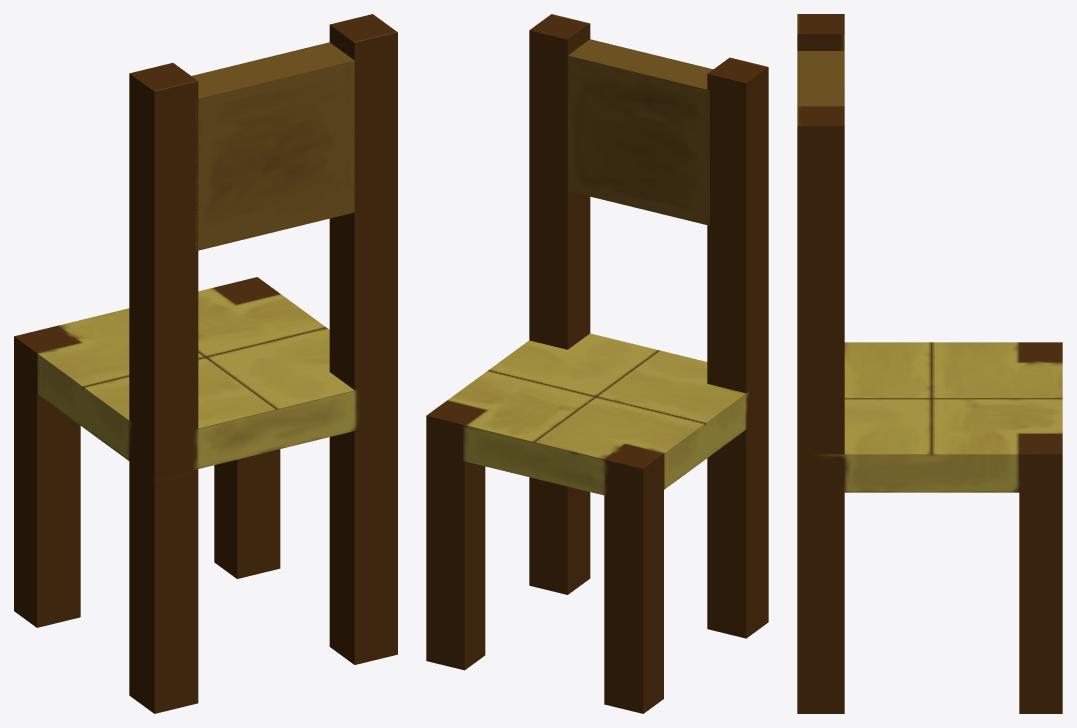
File: cadeira.fbx
The picture shows the model from 3 angles, left to right: view 1: azimuth 30°, elevation 25°; view 2: azimuth 150°, elevation 25°; view 3: azimuth 270°, elevation 25°; orthographic projection. The views are drawn at different scales.
Parts seen in each view (by area): view 1: Cube; view 2: Cube; view 3: Cube.
Part boxes in pixels (x1=…): Cube: x1=14, y1=14, x2=397, y2=713; Cube: x1=426, y1=14, x2=768, y2=713; Cube: x1=797, y1=14, x2=1062, y2=713.
Size of the model in its own units: 200 by 489 by 200.
1 material, 1 textured.
